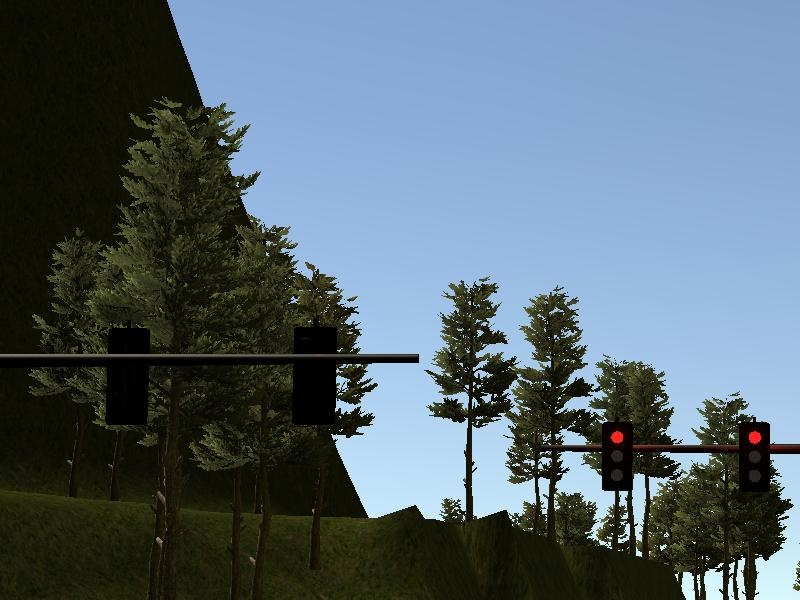Red: (738, 423, 771, 492), (601, 423, 632, 491)
